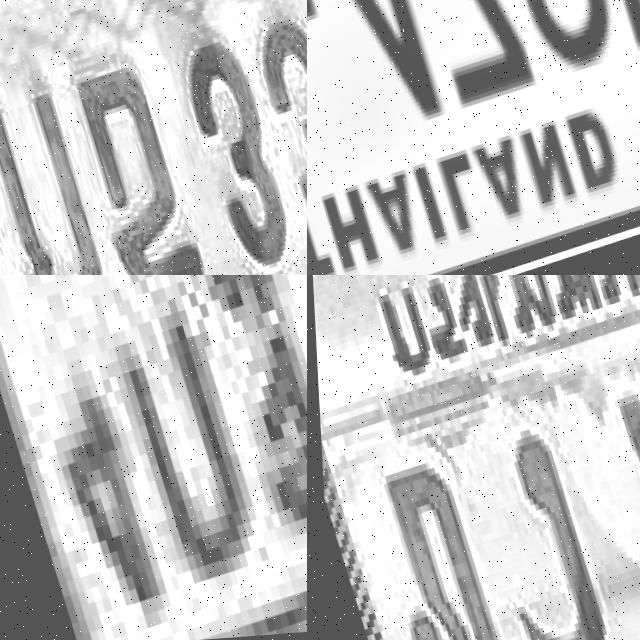license-plate: (307, 275, 640, 640), (0, 275, 307, 640), (307, 0, 640, 275), (0, 0, 307, 275)
